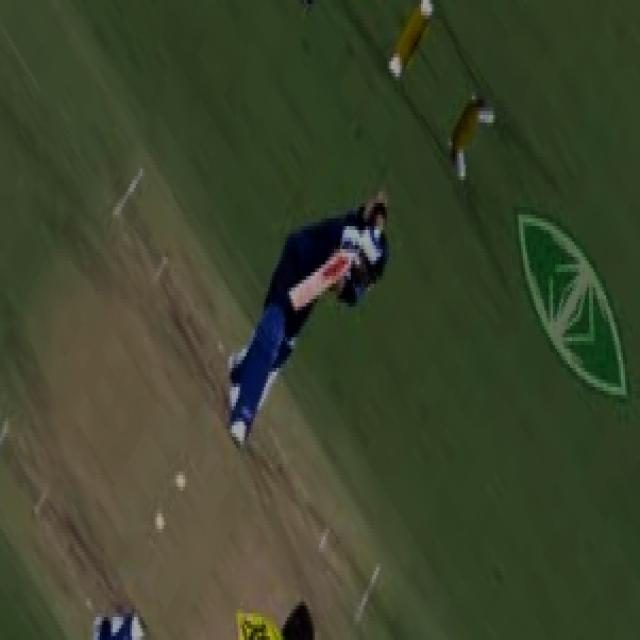bat: (281, 251, 356, 313)
